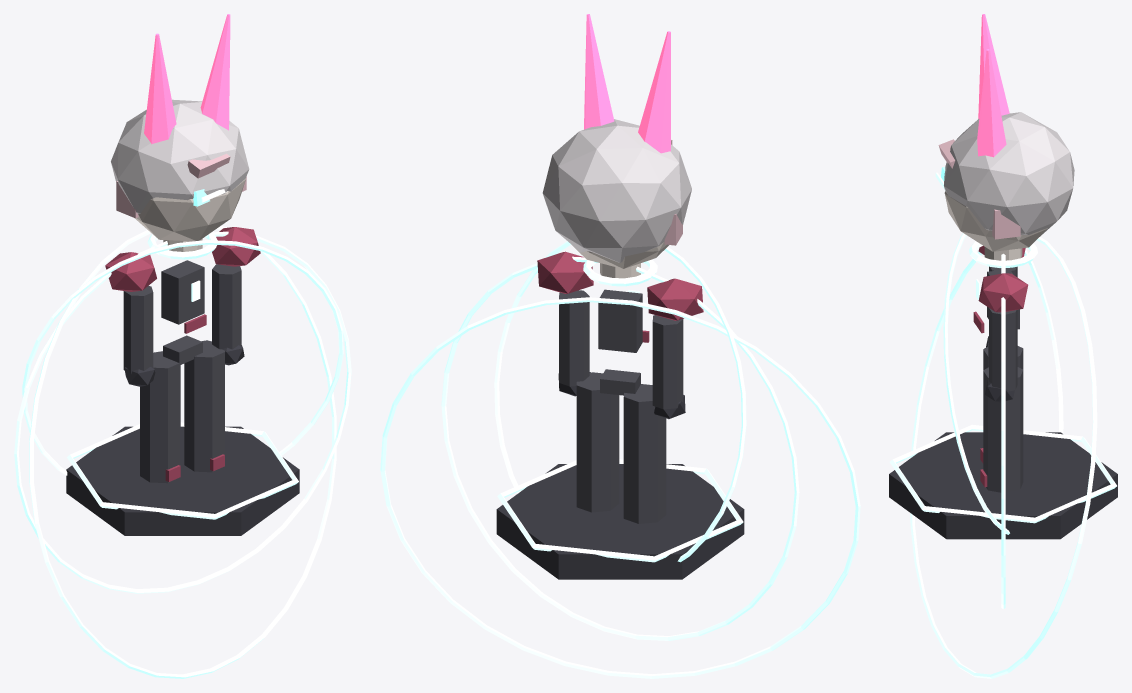
File: unit-002.glb
3 renders of one model, left to right at view 1: azimuth 30°, elevation 25°; view 2: azimuth 150°, elevation 25°; view 3: azimuth 270°, elevation 25°, orthographic. The views are drawn at different scales.
Parts seen in each view (by area): view 1: Pedestal, Hair, Ring_2, Leg_R, Ring_1, Leg_L, Head, Ring_3, Arm_L, Arm_R, Pedestal_Rim, Torso (+7 smaller); view 2: Pedestal, Hair, Ring_2, Leg_R, Leg_L, Ring_1, Ring_3, Arm_L, Arm_R, Pedestal_Rim, Torso, Horn_L (+6 smaller); view 3: Pedestal, Hair, Ring_2, Leg_R, Ring_3, Pedestal_Rim, Arm_R, Horn_R, Head, Ring_1, Pauldron_R, Horn_L (+3 smaller).
Part boxes in pixels (x1,y1,x2,y2): Pedestal: (66, 426, 299, 535); Hair: (111, 99, 249, 213); Ring_2: (29, 225, 336, 678); Leg_R: (184, 340, 224, 472); Ring_1: (14, 231, 351, 593); Leg_L: (140, 351, 180, 483); Head: (134, 178, 245, 241); Ring_3: (22, 240, 343, 475); Arm_L: (123, 286, 153, 373); Arm_R: (212, 264, 241, 349); Pedestal_Rim: (67, 422, 298, 519); Torso: (161, 260, 204, 324); Pedestal: (496, 464, 744, 579); Hair: (542, 119, 691, 262); Ring_2: (380, 297, 860, 678); Leg_R: (576, 372, 619, 512); Leg_L: (623, 384, 666, 523); Ring_1: (441, 256, 799, 640); Ring_3: (494, 241, 746, 562); Arm_L: (652, 315, 683, 409); Arm_R: (559, 290, 589, 386); Pedestal_Rim: (497, 459, 743, 562); Torso: (598, 289, 642, 352); Horn_L: (638, 31, 670, 153); Pedestal: (889, 432, 1117, 539); Hair: (944, 112, 1074, 236); Ring_2: (910, 237, 1097, 678); Leg_R: (983, 367, 1023, 492); Ring_3: (943, 233, 1063, 534); Pedestal_Rim: (889, 424, 1116, 523); Arm_R: (989, 308, 1017, 391); Horn_R: (977, 49, 1006, 157); Head: (944, 191, 1047, 251); Ring_1: (1001, 253, 1005, 608); Pauldron_R: (978, 273, 1028, 312); Horn_L: (978, 14, 1009, 118).
Bounding box in the file's own units: 1.48 × 2.4 × 0.8.
